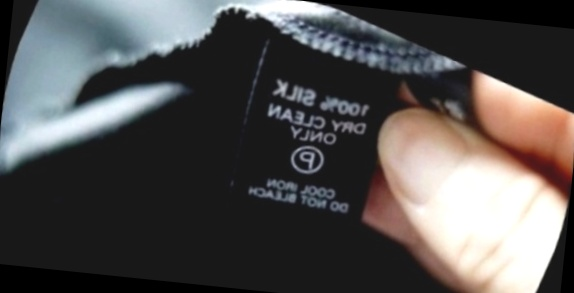dry_clean_any_solvent_except_trichloroethylene: (274, 127, 339, 190)
